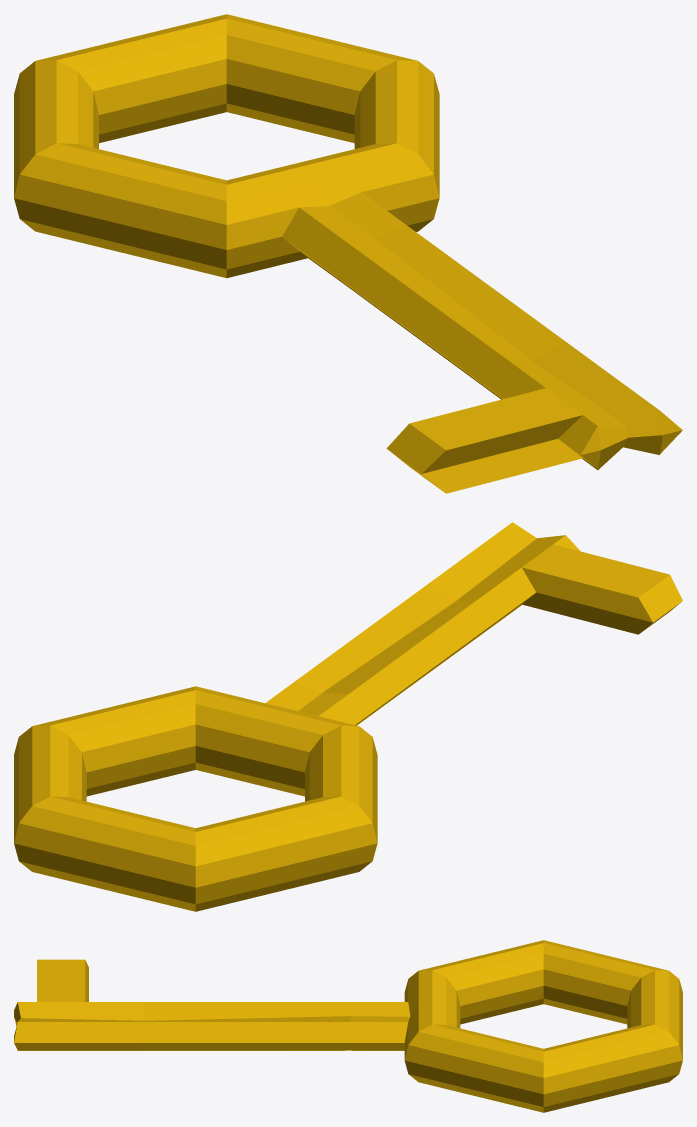
Rendered from key2.fbx.
The picture shows the model from 3 angles, top to bottom: view 1: azimuth 30°, elevation 25°; view 2: azimuth 150°, elevation 25°; view 3: azimuth 270°, elevation 25°; orthographic projection. The views are drawn at different scales.
Visible parts, largest first — view 1: Torus.002; view 2: Torus.002; view 3: Torus.002.
Boxes of the visible parts, x1,y1,x2,y2 form: Torus.002: [14, 14, 682, 493]; Torus.002: [14, 522, 682, 911]; Torus.002: [14, 940, 682, 1112].
Size of the model in its own units: 250 by 50 by 520.
